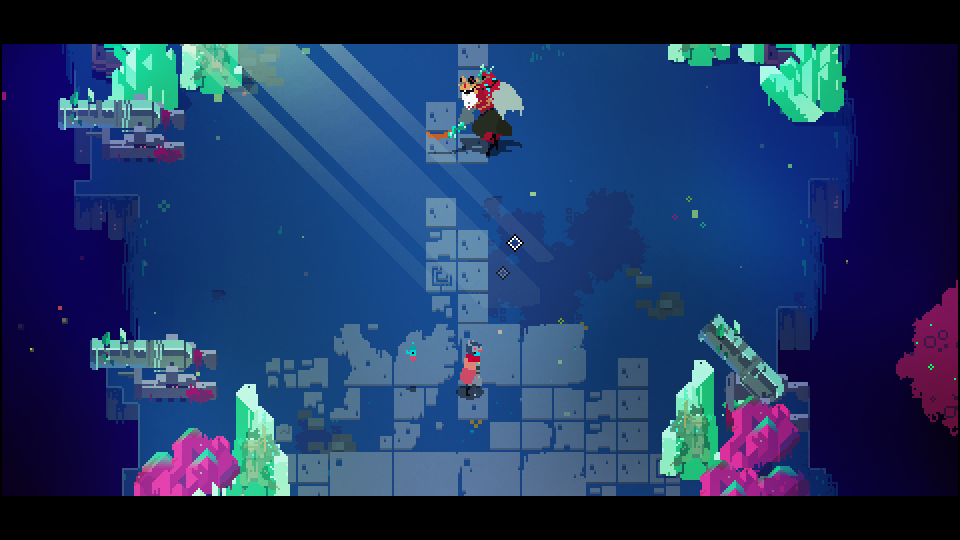hanged_man: (437, 62, 525, 157)
player: (457, 336, 484, 401)
